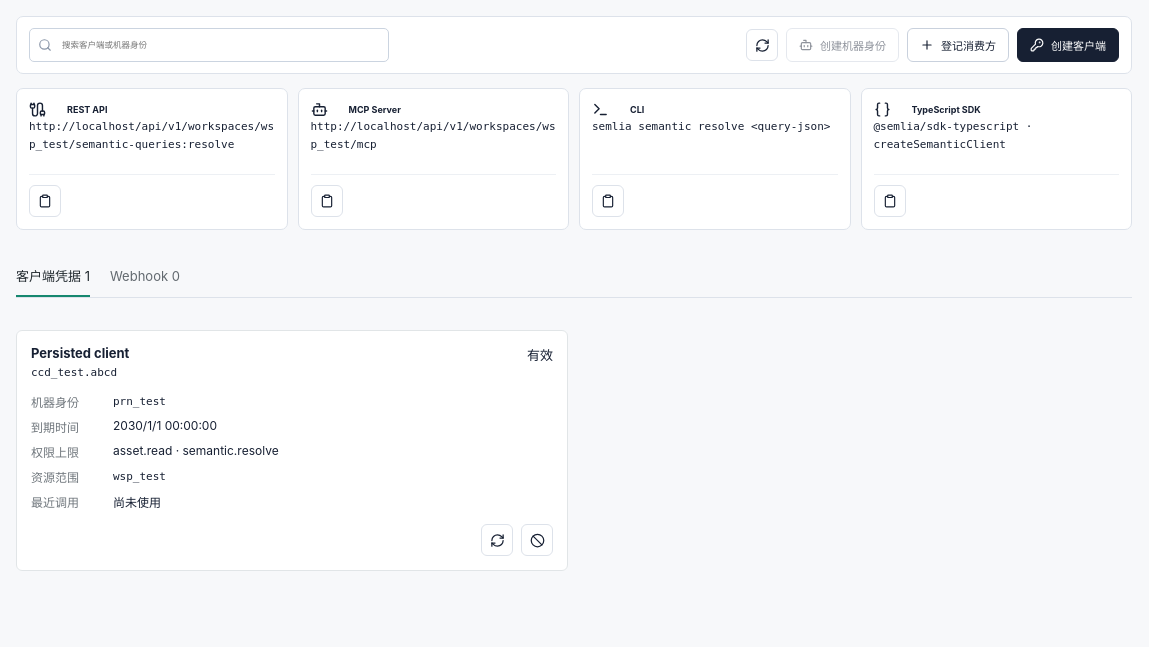
Test: persisted integration settings › distinguishes persisted mutation from failed follow-up refresh
Click the button named "撤销客户端 Persisted client".
click(537, 540)  # box [521,524,553,556]
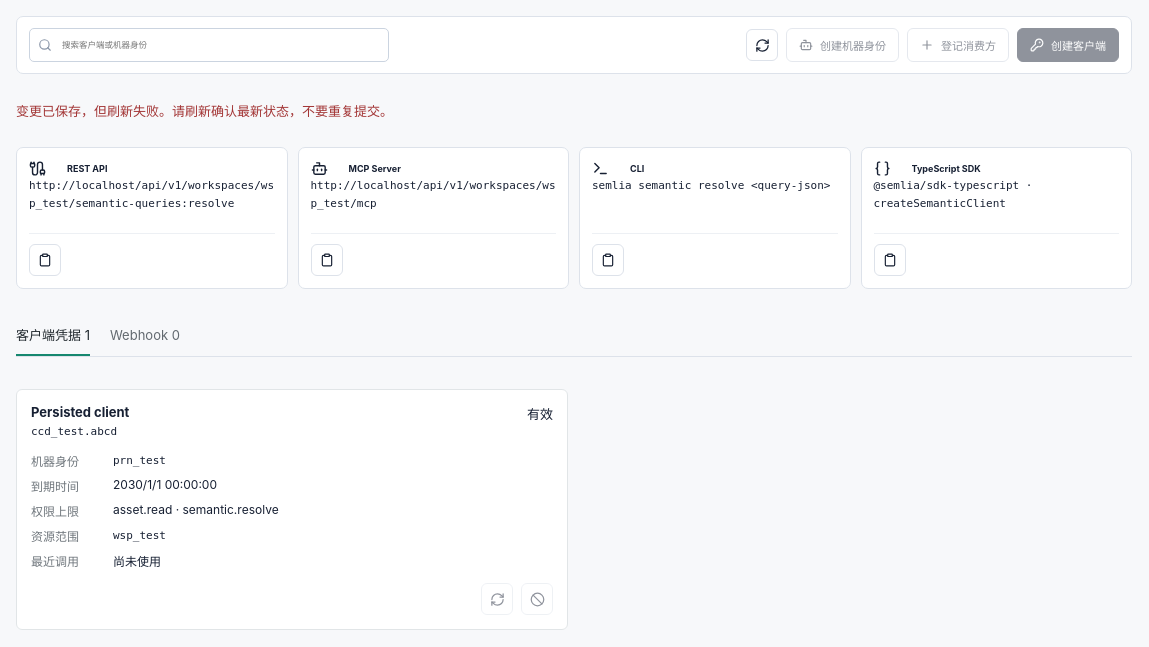
Expected: the text "Persisted client" is shown, [31,404,129,420]
Expected: the message shows "变更已保存，但刷新失败", [16,103,393,119]
Expected: the button named "撤销客户端 Persisted client" is disabled, [521,583,553,615]
